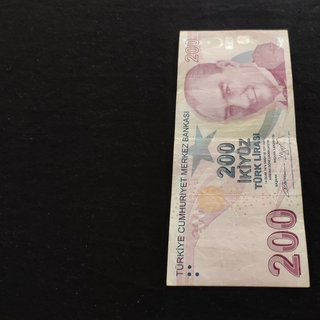200TLFront: (165, 28, 310, 288)
